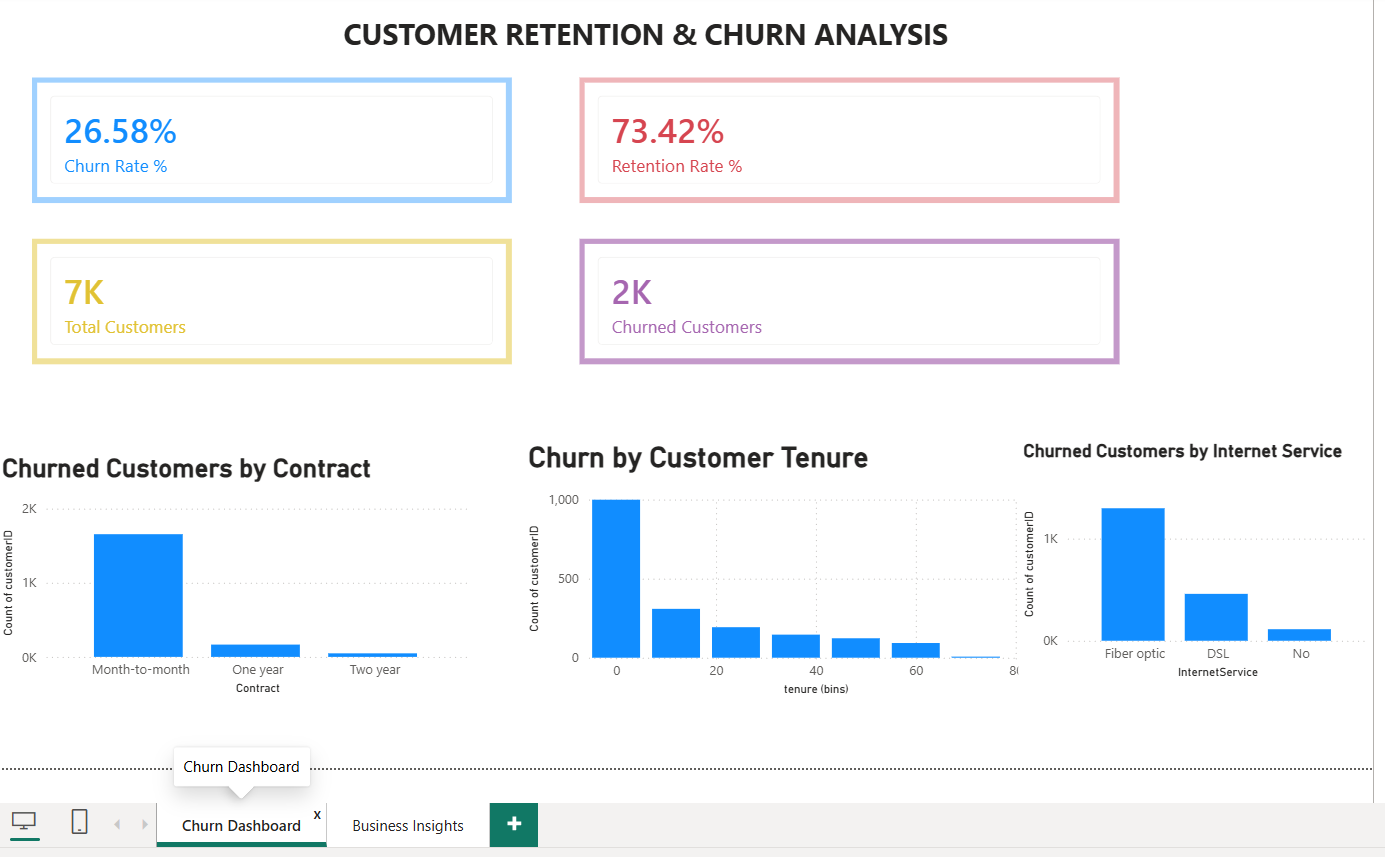

This screenshot's page, from the dashboard's own definition file:
{"tool":"powerbi","page":{"name":"Churn Dashboard","canvas":[1280,720],"ordinal":0},"visuals":[{"type":"cardVisual","fields":{"Data":["Telco Customer.Total Customers"]},"box":[32.1,226.9,446.2,116.7],"z":0},{"type":"cardVisual","fields":{"Data":["Telco Customer.Churn Rate %"]},"box":[32.1,76.9,446.2,116.7],"z":1000},{"type":"cardVisual","fields":{"Data":["Telco Customer.Retention Rate %"]},"box":[542.3,76.9,502.6,116.7],"z":2000},{"type":"textbox","box":[1055.1,76.9,225,150],"z":3000},{"type":"textbox","box":[317.9,12.8,737.2,47.4],"z":4000},{"type":"clusteredColumnChart","title":"Churned Customers by Contract","fields":{"Category":["Telco Customer.Contract"],"Y":["CountNonNull(Telco Customer.customerID)"]},"box":[0,426.1,444.1,229.9],"z":5000},{"type":"clusteredColumnChart","title":"Churn by Customer Tenure","fields":{"Y":["CountNonNull(Telco Customer.customerID)"],"Category":["Telco Customer.tenure (bins)"]},"box":[489.2,413.7,488,242.3],"z":6000},{"type":"cardVisual","fields":{"Data":["Telco Customer.Churned Customers"]},"box":[542.3,226.9,502.6,116.7],"z":7000},{"type":"clusteredColumnChart","title":"Churned Customers by Internet Service","fields":{"Category":["Telco Customer.InternetService"],"Y":["CountNonNull(Telco Customer.customerID)"]},"box":[950.2,413.7,330.2,226.6],"z":8000}]}

Visuals, with their boxes on the page's 1280x720 design canvas (x1, y1, x2, y2). These are canvas units, not pixel positions in the 1385x857 screenshot, which may show the page scaled, cropped or inside an application window:
cardVisual - Telco Customer.Total Customers: [left=32, top=227, right=478, bottom=344]
cardVisual - Telco Customer.Churn Rate %: [left=32, top=77, right=478, bottom=194]
cardVisual - Telco Customer.Retention Rate %: [left=542, top=77, right=1045, bottom=194]
textbox: [left=1055, top=77, right=1280, bottom=227]
textbox: [left=318, top=13, right=1055, bottom=60]
"Churned Customers by Contract" clusteredColumnChart: [left=0, top=426, right=444, bottom=656]
"Churn by Customer Tenure" clusteredColumnChart: [left=489, top=414, right=977, bottom=656]
cardVisual - Telco Customer.Churned Customers: [left=542, top=227, right=1045, bottom=344]
"Churned Customers by Internet Service" clusteredColumnChart: [left=950, top=414, right=1280, bottom=640]
